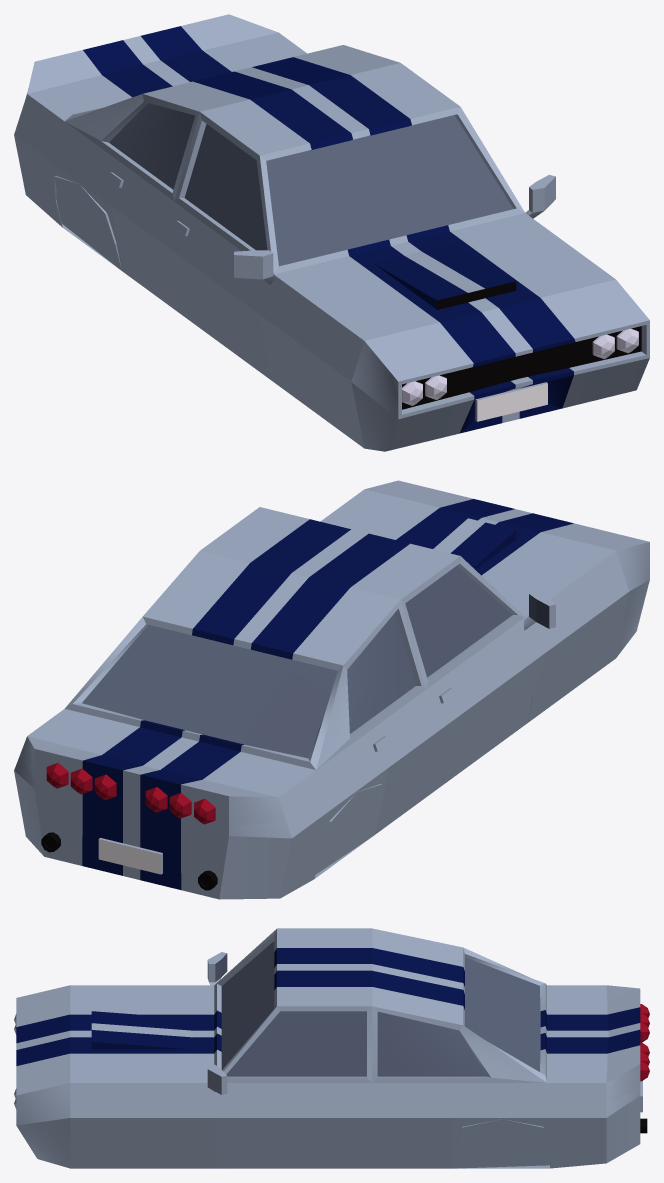
File: Muscle 2 Body Subdivided Further.fbx
3 renders of one model, top to bottom at view 1: azimuth 30°, elevation 25°; view 2: azimuth 150°, elevation 25°; view 3: azimuth 270°, elevation 25°, orthographic. The views are drawn at different scales.
Visible parts, largest first — view 1: Muscle 2; view 2: Muscle 2; view 3: Muscle 2.
Boxes of the visible parts, x1,y1,x2,y2 form: Muscle 2: [14, 14, 649, 451]; Muscle 2: [14, 480, 649, 899]; Muscle 2: [14, 928, 649, 1168].
Size of the model in its own units: 281 by 160 by 606.
